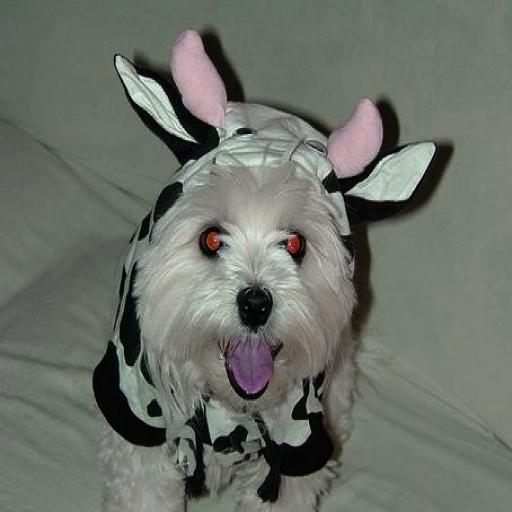dog_face: (140, 154, 349, 388)
